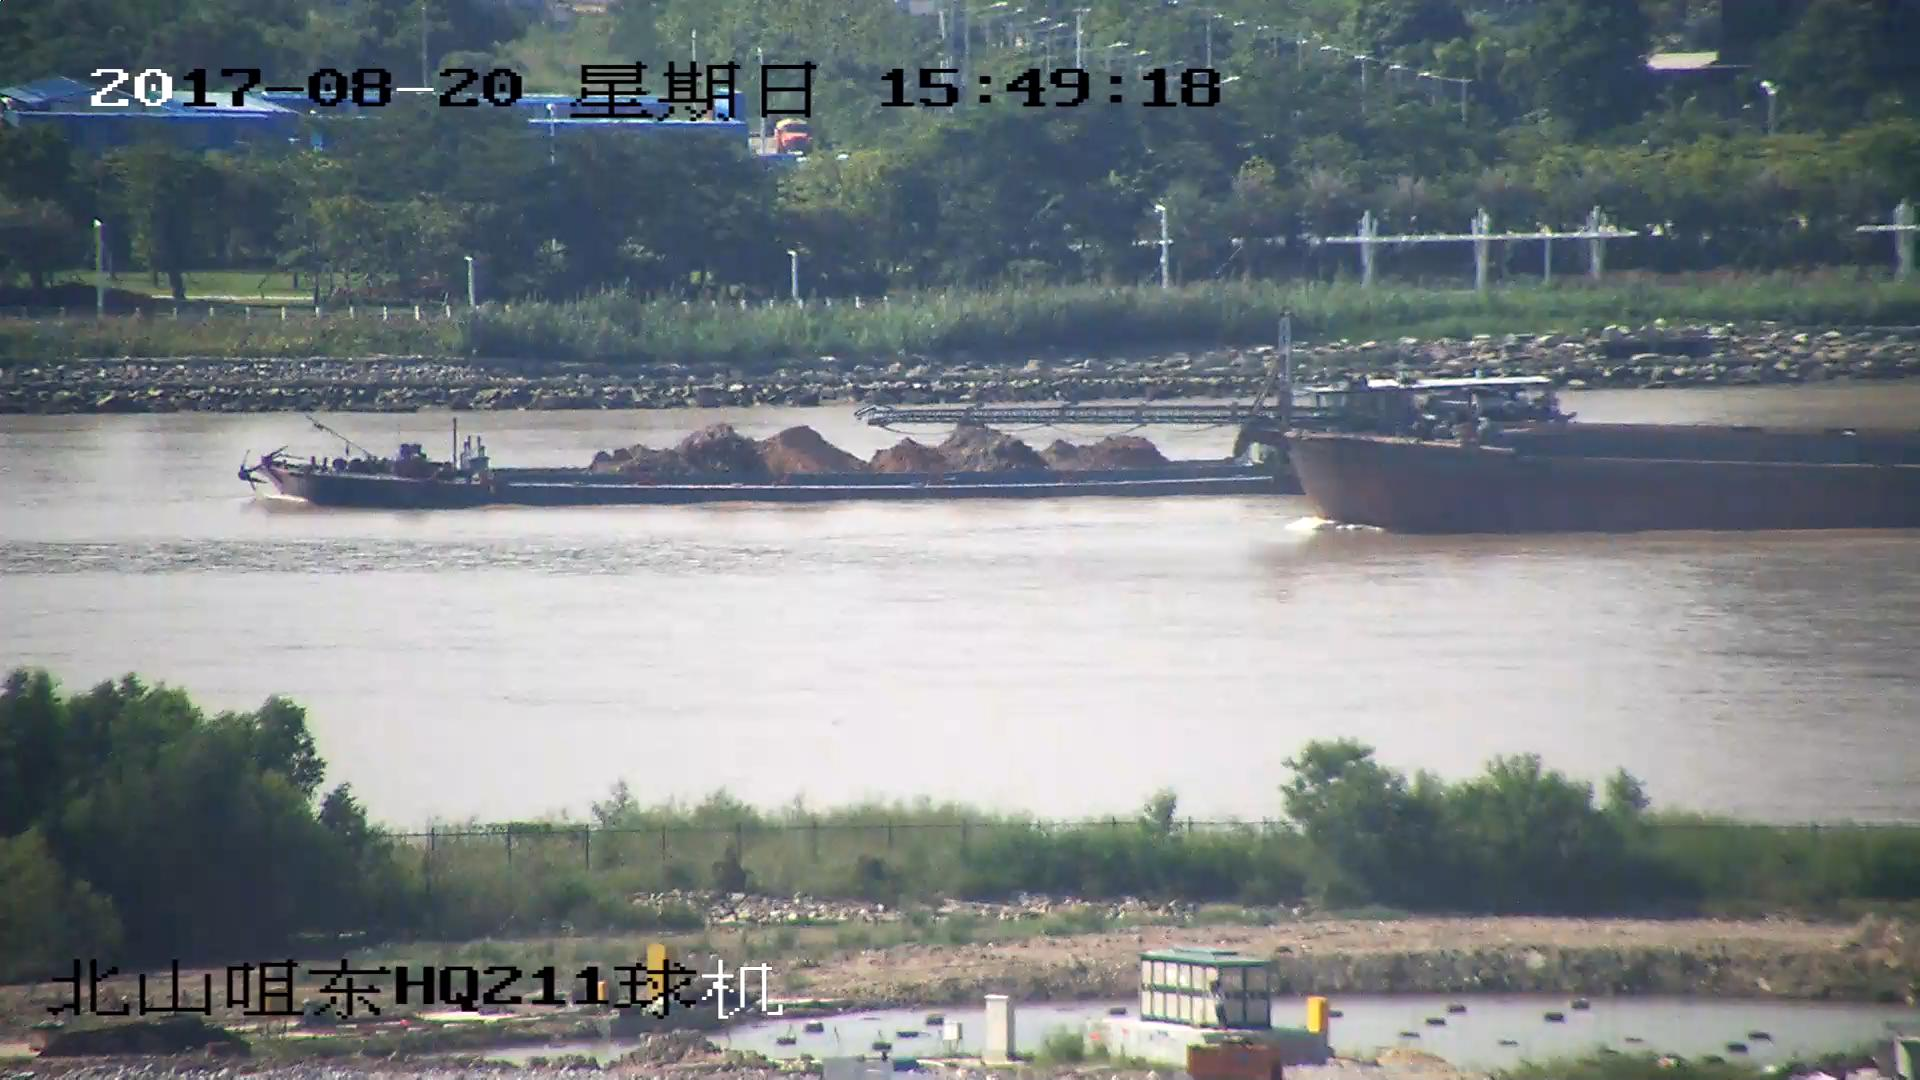bulk cargo carrier: (874, 325, 1920, 534)
ore carrier: (236, 361, 1568, 514)
